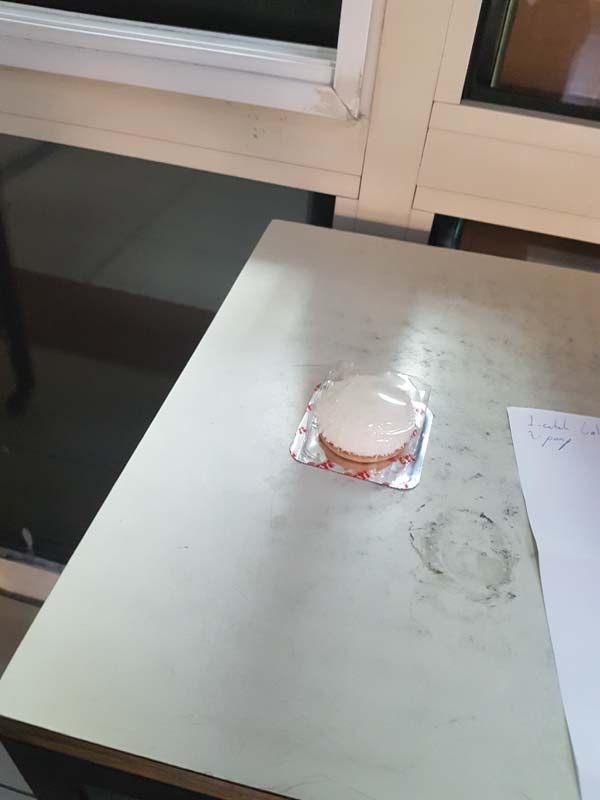etipuf: (294, 360, 435, 490)
